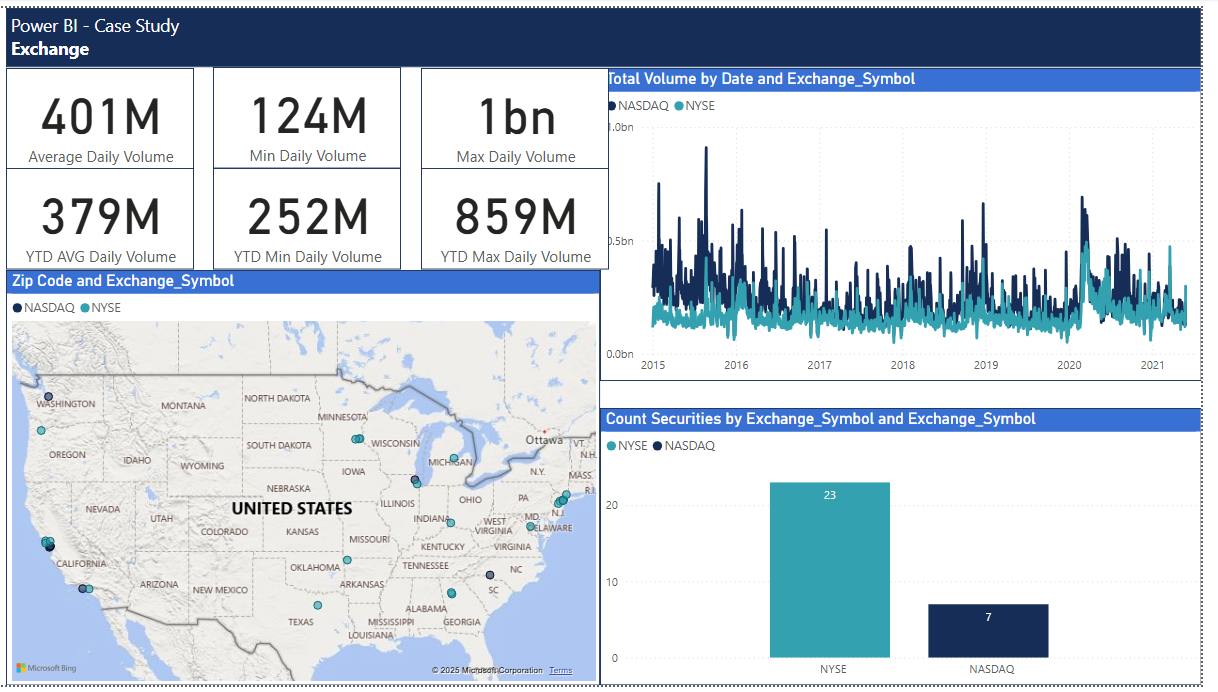

What the dashboard file says about the page in this screenshot:
{"tool":"powerbi","page":{"name":"Exchange","canvas":[1280,720],"ordinal":0},"visuals":[{"type":"group","id":"g1","title":"Group 1","box":[8.3,0,1271.7,63.3],"z":0},{"type":"map","fields":{"Category":["DimSecurity.Zip Code"],"Series":["dimExchange.Exchange_Symbol"]},"box":[8.3,278.3,631.7,441.7],"z":1000},{"type":"lineChart","fields":{"Category":["dimDate.Date"],"Y":["factActivity.Total Volume"],"Series":["dimExchange.Exchange_Symbol"]},"box":[640,63.3,640,333.3],"z":2000},{"type":"columnChart","fields":{"Category":["dimExchange.Exchange_Symbol"],"Y":["factActivity.Count Securities"],"Series":["dimExchange.Exchange_Symbol"]},"box":[640,425.4,640,294.8],"z":3000},{"type":"card","fields":{"Values":["factActivity.Average Daily Volume"]},"box":[8.3,63.3,200,108],"z":4000},{"type":"card","fields":{"Values":["factActivity.Min Daily Volume"]},"box":[229.2,62.7,200,108.2],"z":5000},{"type":"card","fields":{"Values":["factActivity.Max Daily Volume"]},"box":[450.5,64.6,189,107.1],"z":6000},{"type":"card","fields":{"Values":["factActivity.YTD AVG Daily Volume"]},"box":[8.3,170,200,108],"z":7000},{"type":"card","fields":{"Values":["factActivity.YTD Min Daily Volume"]},"box":[229.2,170,200,108],"z":8000},{"type":"card","fields":{"Values":["factActivity.YTD Max Daily Volume"]},"box":[450.5,170.1,189,107.1],"z":9000},{"type":"shape","box":[8.3,0,1271.7,63.3],"z":14000,"group":"g1"},{"type":"textbox","box":[8.3,0,1271.7,63.3],"z":15000,"group":"g1"}]}

Visuals, with their boxes in screenshot pixels (x1, y1, x2, y2), scaled from the page's 1280x720 canvas onto the 1218x692 screenshot:
"Group 1" group: box=[8, 0, 1217, 61]
map - DimSecurity.Zip Code x dimExchange.Exchange_Symbol: box=[8, 267, 609, 691]
lineChart - dimDate.Date x factActivity.Total Volume: box=[609, 61, 1217, 381]
columnChart - dimExchange.Exchange_Symbol x factActivity.Count Securities: box=[609, 409, 1217, 691]
card - factActivity.Average Daily Volume: box=[8, 61, 198, 165]
card - factActivity.Min Daily Volume: box=[218, 60, 408, 164]
card - factActivity.Max Daily Volume: box=[429, 62, 609, 165]
card - factActivity.YTD AVG Daily Volume: box=[8, 163, 198, 267]
card - factActivity.YTD Min Daily Volume: box=[218, 163, 408, 267]
card - factActivity.YTD Max Daily Volume: box=[429, 163, 609, 266]
shape: box=[8, 0, 1217, 61]
textbox: box=[8, 0, 1217, 61]
